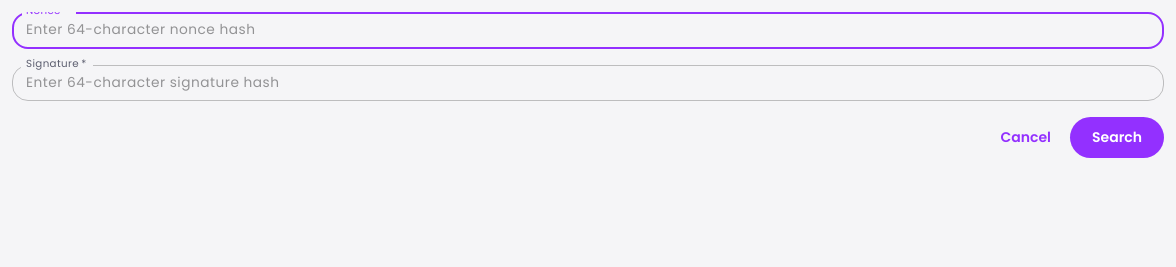
Test: SearchKernel › should show validation errors for empty fields when search is clicked
This screenshot has width=1176, height=267.
Click the button "Search".
click(1117, 138)  # box [1070,117,1164,158]
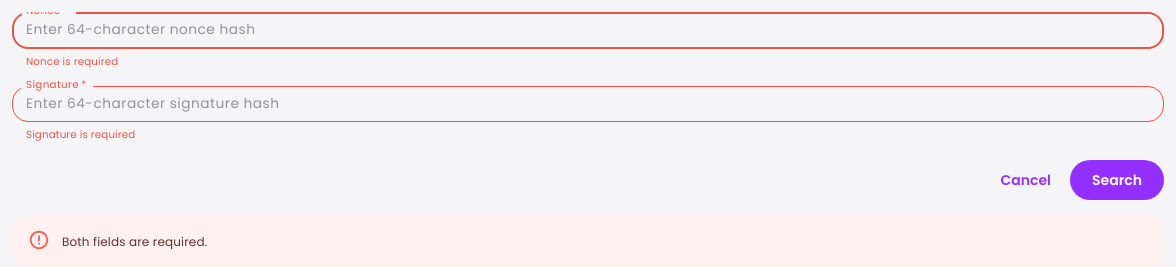
Expected: the text "Both fields are required." is shown, [62,233,207,250]
Expected: the text "Nonce is required" is shown, [26,54,118,69]
Expected: the text "Signature is required" is shown, [26,128,135,142]
